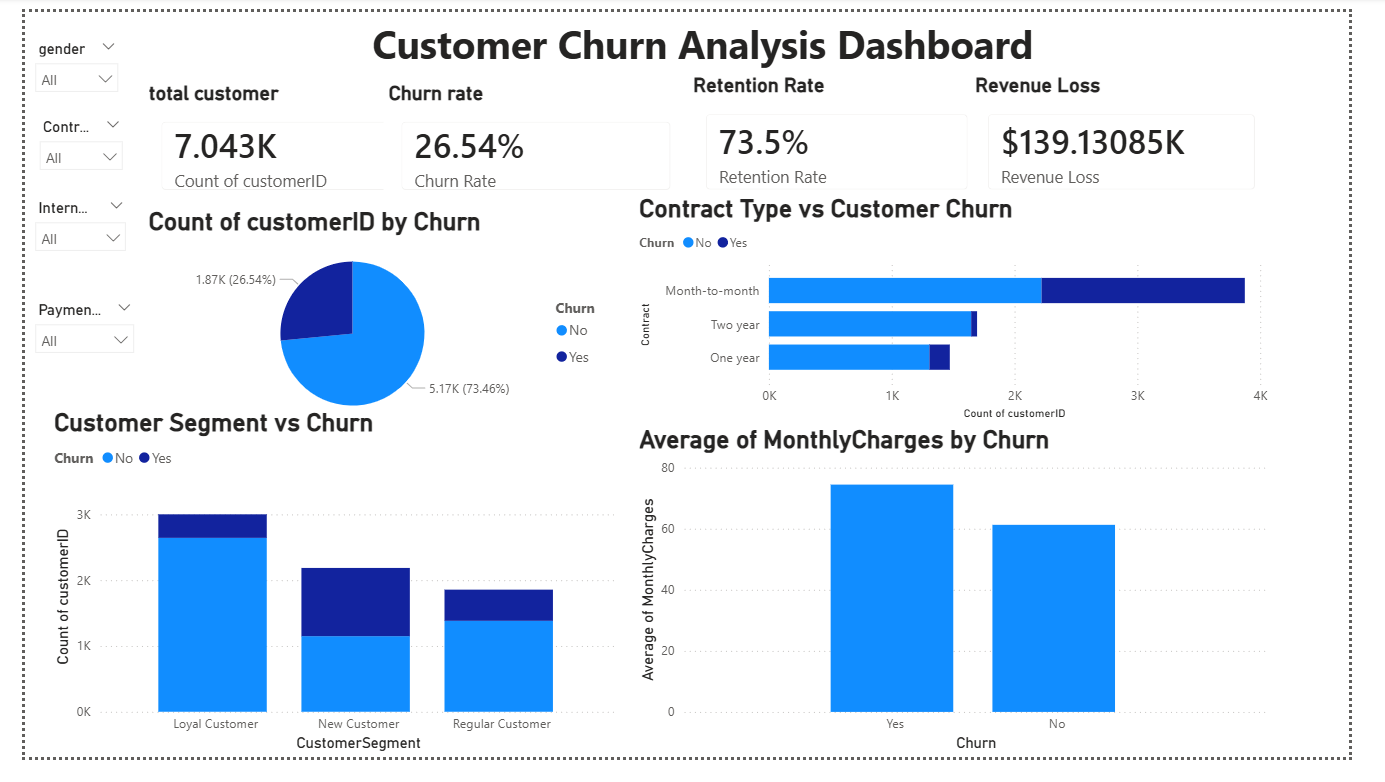

This screenshot's page, from the dashboard's own definition file:
{"tool":"powerbi","page":{"name":"Page 1","canvas":[1280,720],"ordinal":0},"visuals":[{"type":"cardVisual","title":"total customer","fields":{"Data":["CountNonNull(Telco-Customer-Churn.customerID)"]},"box":[114.8,66.7,296.3,122.2],"z":0},{"type":"cardVisual","title":"Churn rate","fields":{"Data":["Telco-Customer-Churn.Churn Rate"]},"box":[346.4,63.8,294.2,121.7],"z":1},{"type":"cardVisual","title":"Retention Rate","fields":{"Data":["Telco-Customer-Churn.Retention Rate"]},"box":[640.7,59.3,287,129.6],"z":2},{"type":"cardVisual","title":"Revenue Loss","fields":{"Data":["Telco-Customer-Churn.Revenue Loss"]},"box":[913,59.3,292.6,129.6],"z":3},{"type":"pieChart","fields":{"Category":["Telco-Customer-Churn.Churn"],"Y":["CountNonNull(Telco-Customer-Churn.customerID)"]},"box":[114.8,188.9,461.1,216.7],"z":4},{"type":"barChart","title":"Contract Type vs Customer Churn","fields":{"Category":["Telco-Customer-Churn.Contract"],"Y":["CountNonNull(Telco-Customer-Churn.customerID)"],"Series":["Telco-Customer-Churn.Churn"]},"box":[588.9,175.9,616.7,222.2],"z":5},{"type":"columnChart","title":"Customer Segment vs Churn","fields":{"Category":["Telco-Customer-Churn.CustomerSegment"],"Y":["CountNonNull(Telco-Customer-Churn.customerID)"],"Series":["Telco-Customer-Churn.Churn"]},"box":[22.7,383.1,552.7,336.2],"z":6},{"type":"clusteredColumnChart","fields":{"Category":["Telco-Customer-Churn.Churn"],"Y":["Avg(Telco-Customer-Churn.MonthlyCharges)"]},"box":[588.9,398.1,616.7,320.4],"z":7},{"type":"slicer","fields":{"Values":["Telco-Customer-Churn.gender"]},"box":[0,21.2,99.9,75.7],"z":8},{"type":"slicer","fields":{"Values":["Telco-Customer-Churn.Contract"]},"box":[4.5,96.9,99.9,75.7],"z":9},{"type":"slicer","fields":{"Values":["Telco-Customer-Churn.InternetService"]},"box":[0,175.6,107.5,83.3],"z":10},{"type":"slicer","fields":{"Values":["Telco-Customer-Churn.PaymentMethod"]},"box":[0,274.1,115.1,86.3],"z":11},{"type":"textbox","box":[163,0,985.2,59.3],"z":12}]}

Visuals, with their boxes in screenshot pixels (x1, y1, x2, y2), scaled from the page's 1280x720 canvas onto the 1385x782 screenshot:
"total customer" cardVisual: (x1=124, y1=72, x2=445, y2=205)
"Churn rate" cardVisual: (x1=375, y1=69, x2=693, y2=201)
"Retention Rate" cardVisual: (x1=693, y1=64, x2=1004, y2=205)
"Revenue Loss" cardVisual: (x1=988, y1=64, x2=1304, y2=205)
pieChart - Telco-Customer-Churn.Churn x CountNonNull(Telco-Customer-Churn.customerID): (x1=124, y1=205, x2=623, y2=441)
"Contract Type vs Customer Churn" barChart: (x1=637, y1=191, x2=1304, y2=432)
"Customer Segment vs Churn" columnChart: (x1=25, y1=416, x2=623, y2=781)
clusteredColumnChart - Telco-Customer-Churn.Churn x Avg(Telco-Customer-Churn.MonthlyCharges): (x1=637, y1=432, x2=1304, y2=780)
slicer - Telco-Customer-Churn.gender: (x1=0, y1=23, x2=108, y2=105)
slicer - Telco-Customer-Churn.Contract: (x1=5, y1=105, x2=113, y2=187)
slicer - Telco-Customer-Churn.InternetService: (x1=0, y1=191, x2=116, y2=281)
slicer - Telco-Customer-Churn.PaymentMethod: (x1=0, y1=298, x2=125, y2=391)
textbox: (x1=176, y1=0, x2=1242, y2=64)
